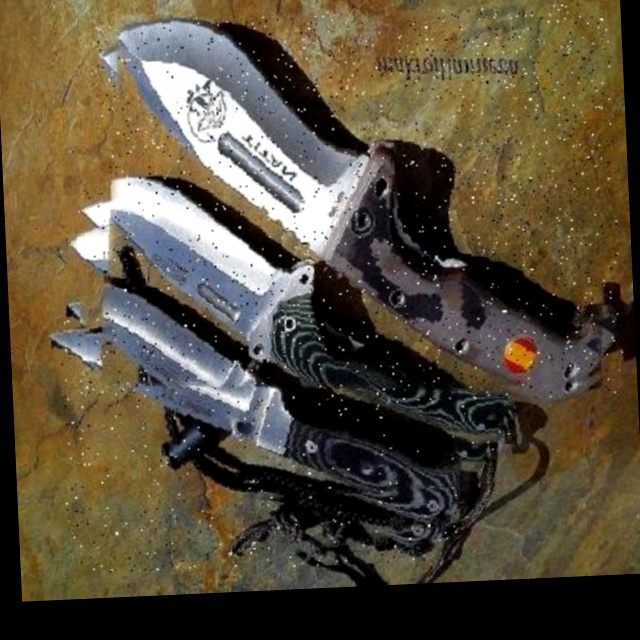Sharp-Object: (94, 2, 624, 418), (74, 166, 513, 512), (57, 271, 463, 577)
